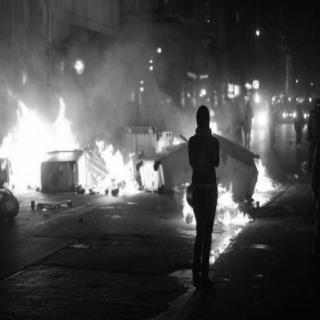Fire: (2, 87, 156, 205), (177, 112, 273, 238)
other: (246, 97, 312, 127)
